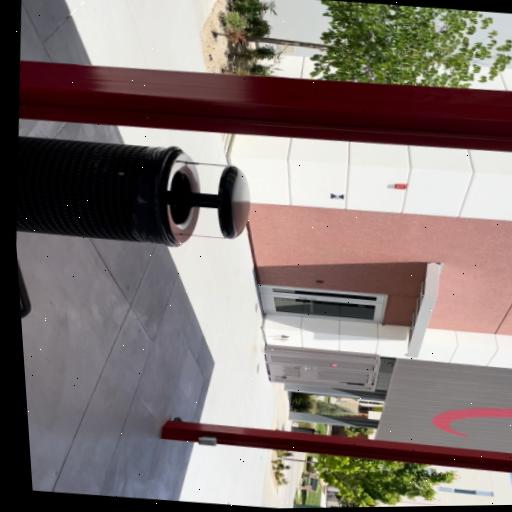target6: (330, 193, 344, 200)
